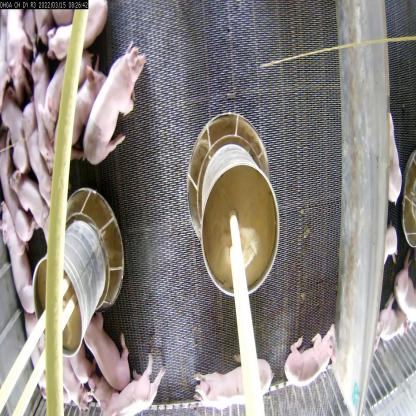Pig: (86, 38, 144, 162), (72, 298, 132, 392), (54, 64, 108, 158), (195, 355, 276, 415), (1, 204, 40, 318), (93, 356, 166, 416), (7, 157, 52, 254), (43, 2, 117, 60), (25, 47, 56, 177), (284, 326, 336, 392), (20, 104, 49, 222)
